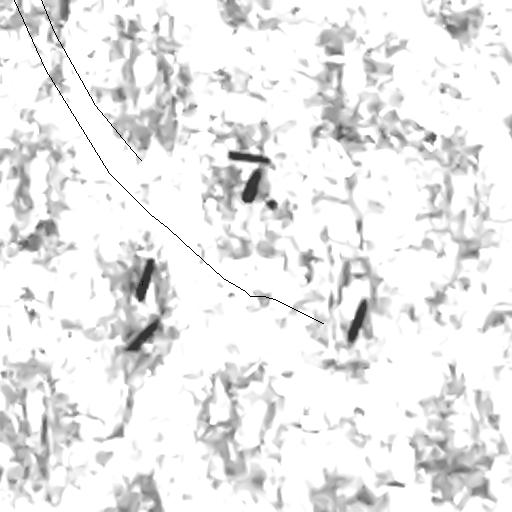egg: (126, 318, 158, 350), (347, 298, 367, 343), (136, 258, 154, 301), (242, 168, 262, 202), (228, 150, 271, 164)
